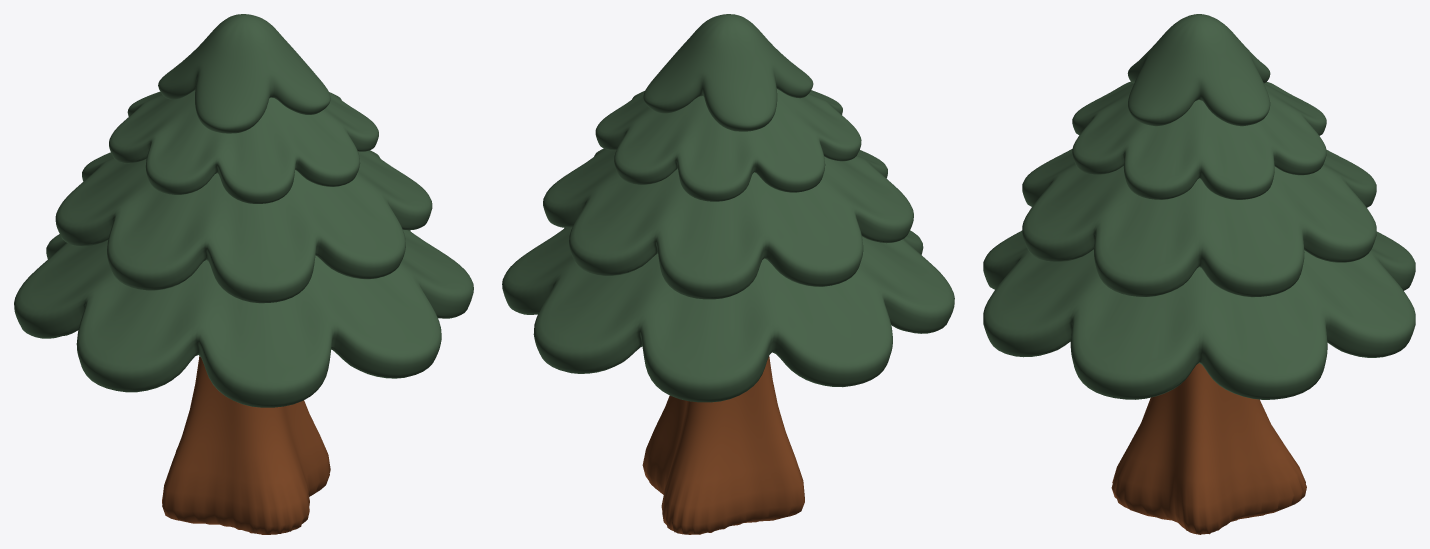
Rendered from tree.glb.
3 views of the same model, side by side, from view 1: azimuth 30°, elevation 25°; view 2: azimuth 150°, elevation 25°; view 3: azimuth 270°, elevation 25° (orthographic).
Visible parts, largest first — view 1: Leaf 0.001, Leaf 1.001, Leaf 2.001, Stem, Leaf 4; view 2: Leaf 0.001, Leaf 1.001, Leaf 2.001, Stem, Leaf 4; view 3: Leaf 0.001, Leaf 1.001, Stem, Leaf 2.001, Leaf 4.
Boxes of the visible parts, x1,y1,x2,y2 form: Leaf 0.001: (14,230,473,407); Leaf 1.001: (55,150,432,303); Leaf 2.001: (109,90,378,203); Stem: (162,356,330,534); Leaf 4: (158,14,330,133); Leaf 0.001: (502,227,954,402); Leaf 1.001: (543,148,913,299); Leaf 2.001: (595,89,861,201); Stem: (642,356,804,534); Leaf 4: (643,14,813,131); Leaf 0.001: (983,230,1415,399); Leaf 1.001: (1022,149,1376,297); Stem: (1111,363,1306,534); Leaf 2.001: (1072,81,1326,199); Leaf 4: (1127,14,1270,126).
Bounding box in the file's own units: 0.5332 × 0.6786 × 0.5331.
